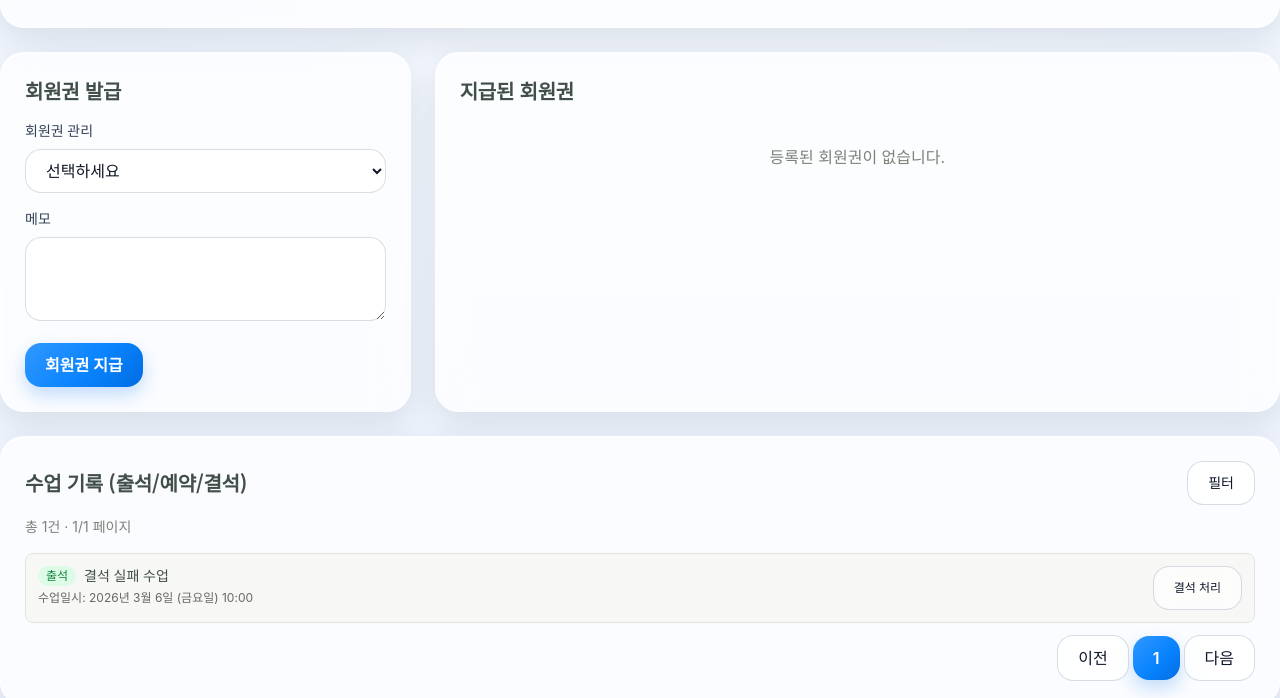
Test: CustomerDetail page › shows error when marking attended class as absent fails
(page scrolled)
Click the button "결석 처리": (1197, 588) [1153,566,1242,610]
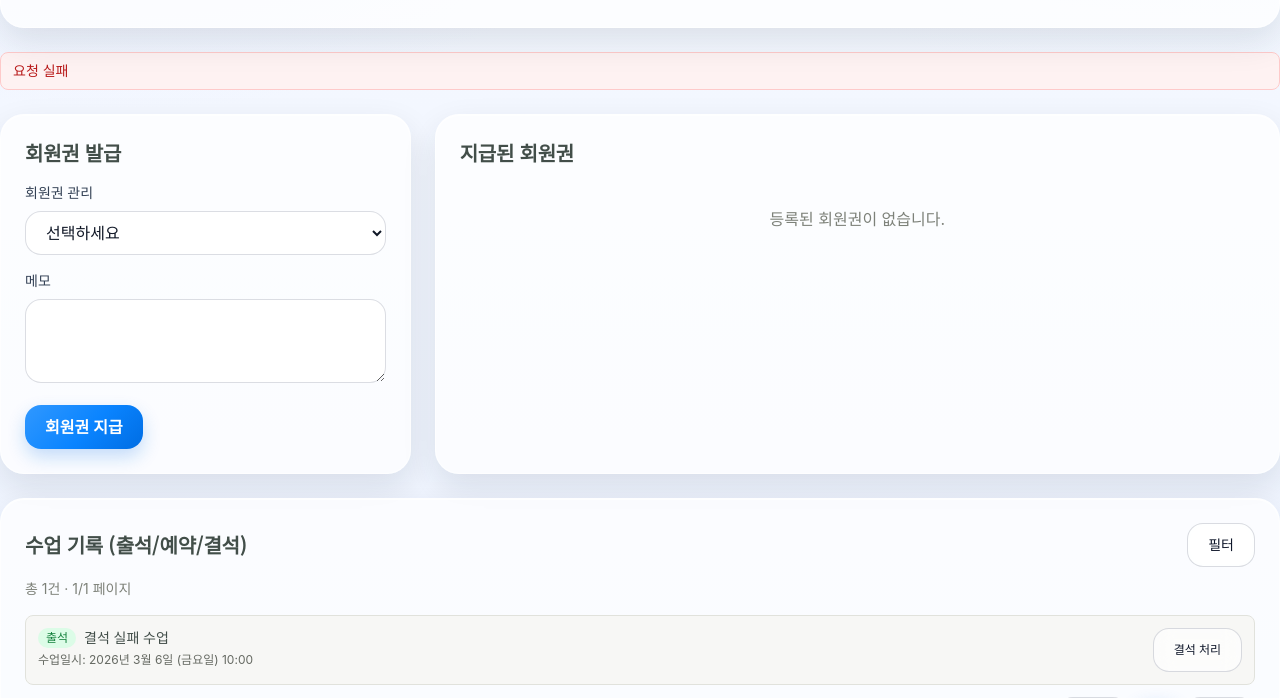
expect the text "요청 실패" is shown: met, box [0,52,1279,90]
